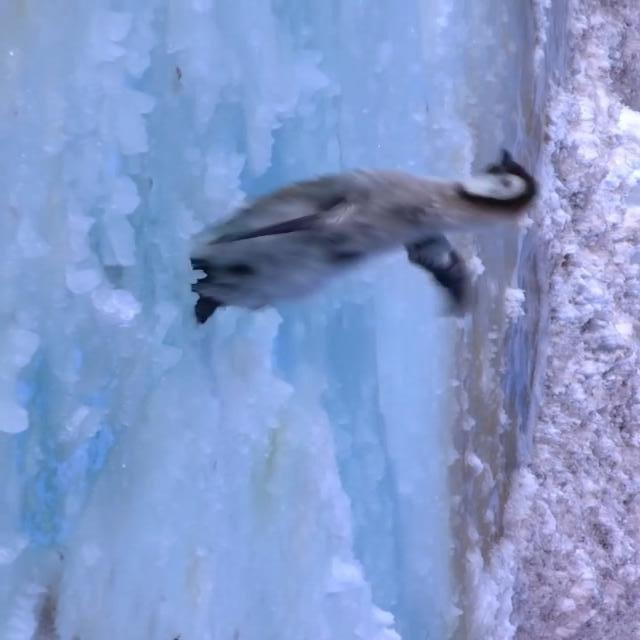penguin: (188, 148, 539, 326)
